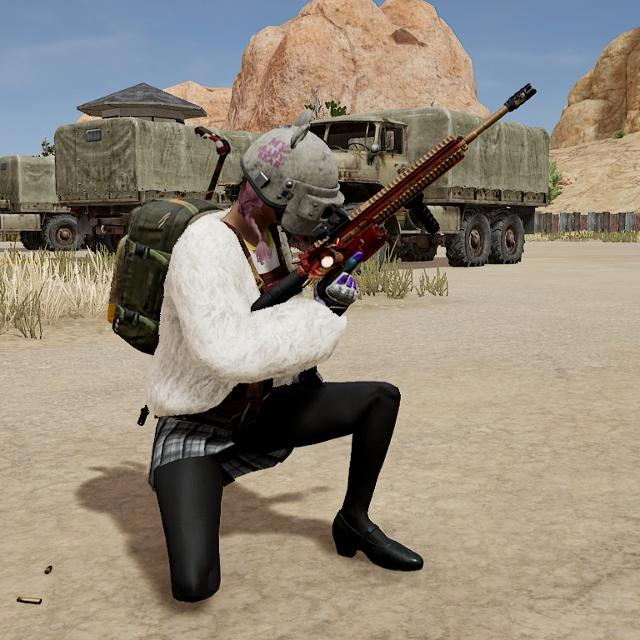head: (229, 112, 345, 257)
people: (99, 100, 448, 614)
